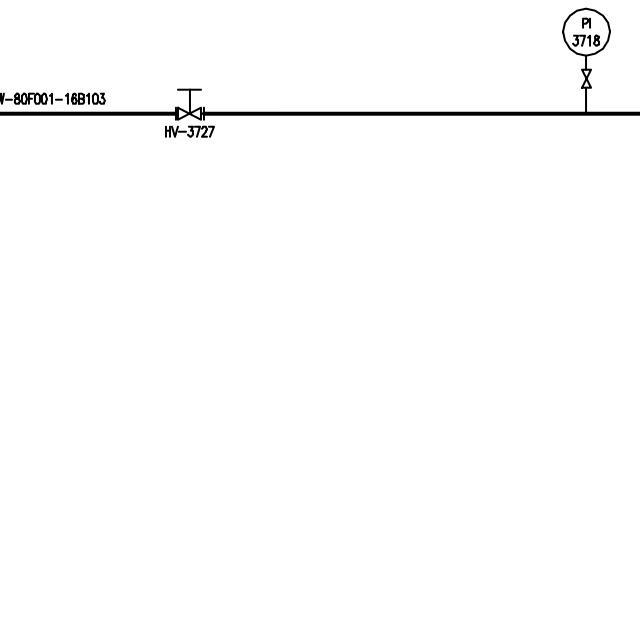GV: (579, 67, 594, 90)
HVWT: (175, 85, 204, 121)
